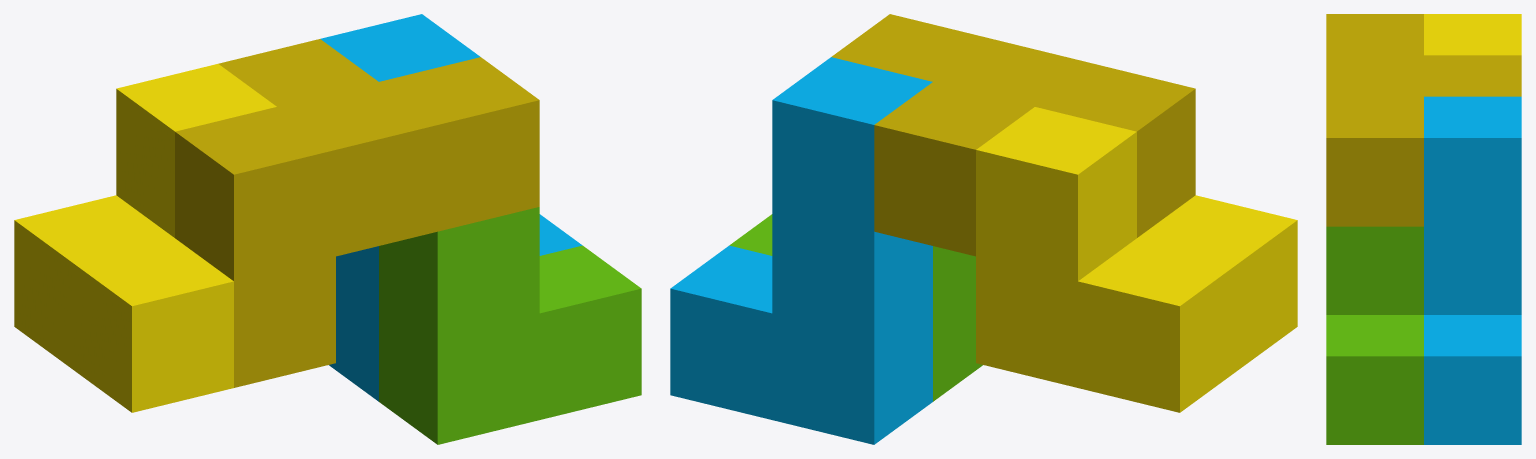
3 renders of one model, left to right at view 1: azimuth 30°, elevation 25°; view 2: azimuth 150°, elevation 25°; view 3: azimuth 270°, elevation 25°, orthographic. The views are drawn at different scales.
Visible parts, largest first — view 1: mergedBlocks(Clone); view 2: mergedBlocks(Clone); view 3: mergedBlocks(Clone).
Boxes of the visible parts, x1=… form: mergedBlocks(Clone): x1=14, y1=14, x2=641, y2=444; mergedBlocks(Clone): x1=670, y1=14, x2=1297, y2=444; mergedBlocks(Clone): x1=1326, y1=14, x2=1521, y2=444.
Size of the model in its own units: 5 by 3 by 2.
4 materials, 4 textured.
